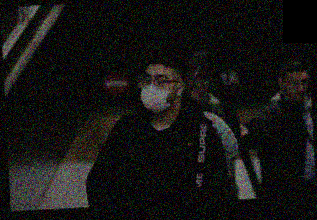with_mask: (139, 70, 176, 113)
without_mask: (288, 74, 311, 102)
